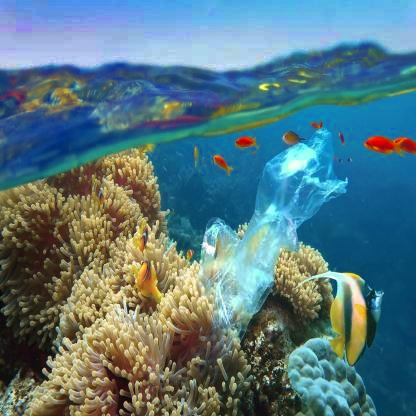pbag: (196, 117, 350, 346)
